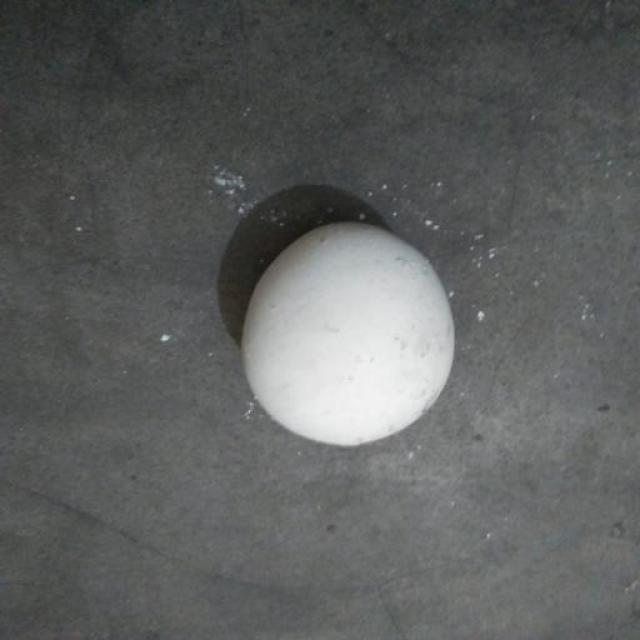telur: (239, 220, 459, 447)
